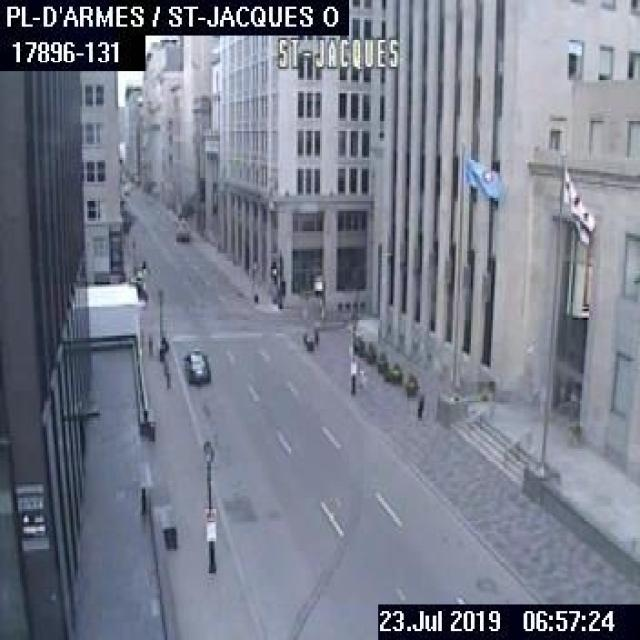pedestrian: (415, 388, 423, 418)
vehicle: (180, 349, 209, 384), (173, 219, 188, 241)
